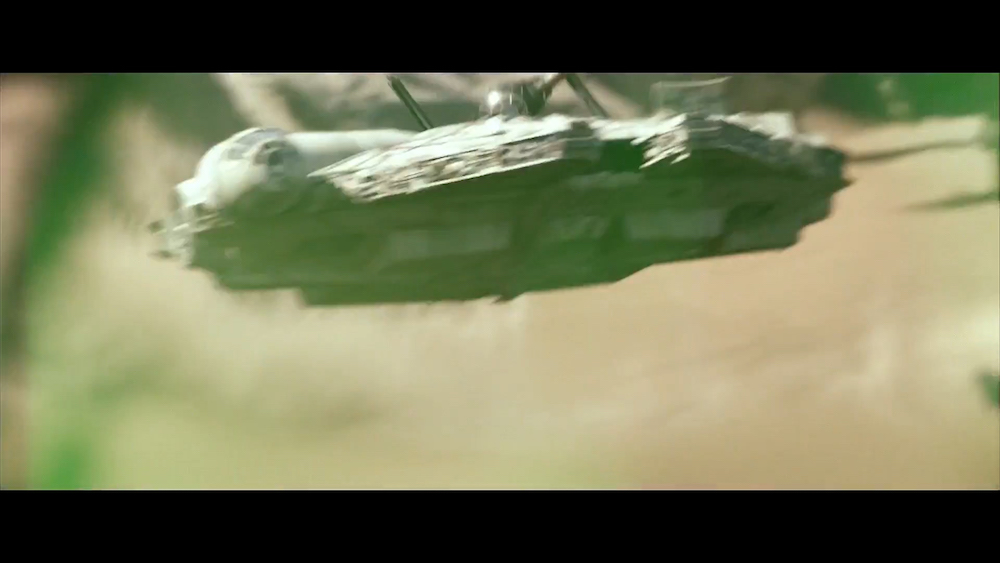Millennium Falcon: (150, 130, 854, 306)
Tie Fighter: (392, 73, 625, 156)
